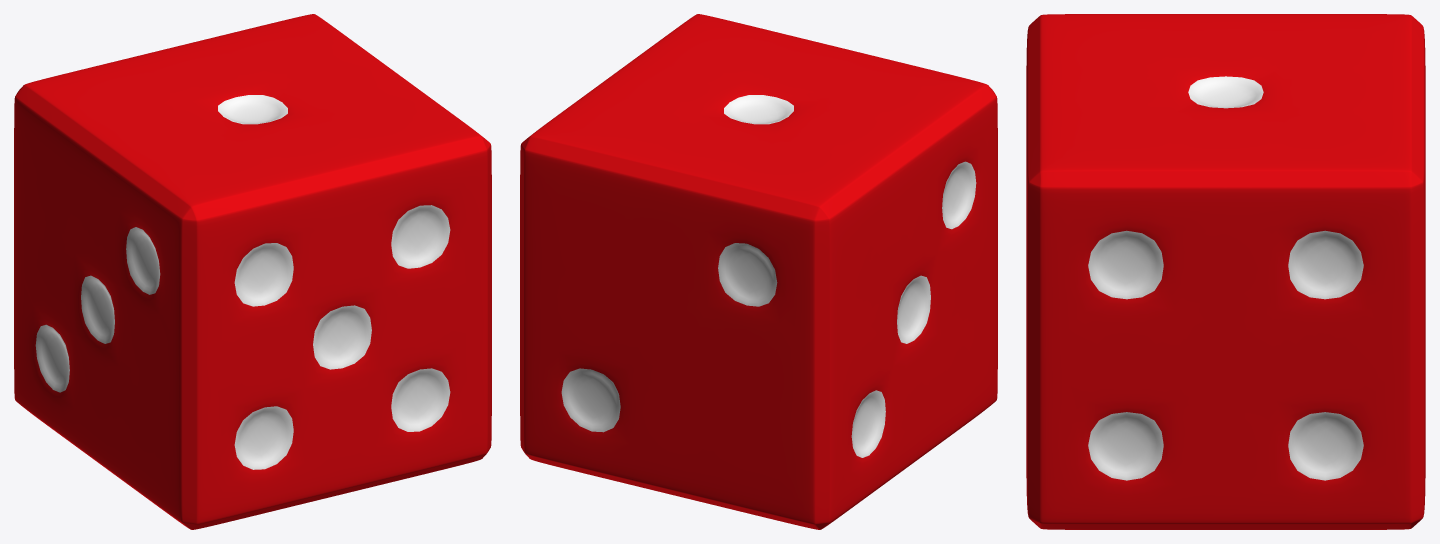
Rendered from dice.fbx.
3 renders of one model, left to right at view 1: azimuth 30°, elevation 25°; view 2: azimuth 150°, elevation 25°; view 3: azimuth 270°, elevation 25°, orthographic. The views are drawn at different scales.
Parts seen in each view (by area): view 1: Cube; view 2: Cube; view 3: Cube.
Part boxes in pixels (bbox=[...]): Cube: bbox=[14, 14, 491, 529]; Cube: bbox=[520, 14, 997, 529]; Cube: bbox=[1026, 14, 1425, 529].
Size of the model in its own units: 200 by 200 by 200.
